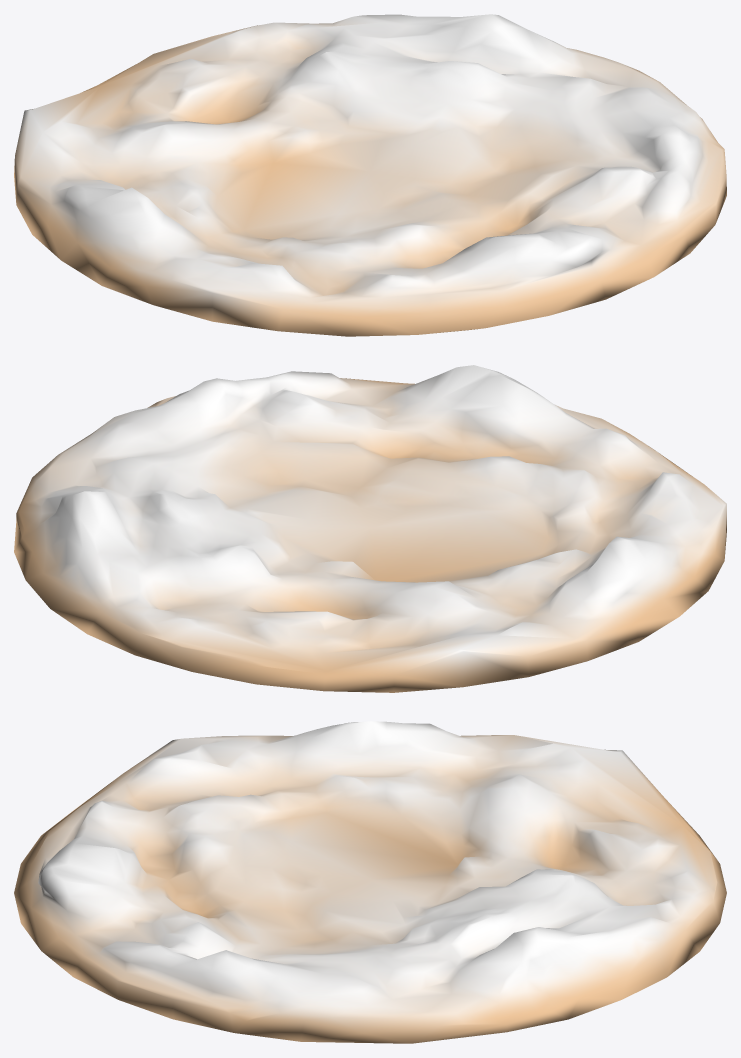
Rendered from Set_ground.fbx.
The picture shows the model from 3 angles, top to bottom: view 1: azimuth 30°, elevation 25°; view 2: azimuth 150°, elevation 25°; view 3: azimuth 270°, elevation 25°; orthographic projection.
Visible parts, largest first — view 1: ground; view 2: ground; view 3: ground.
Boxes of the visible parts, left/top/right/bottom form: ground: left=14, top=14, right=726, bottom=336; ground: left=14, top=365, right=726, bottom=692; ground: left=14, top=721, right=726, bottom=1043.
Size of the model in its own units: 19.97 by 1.92 by 20.
